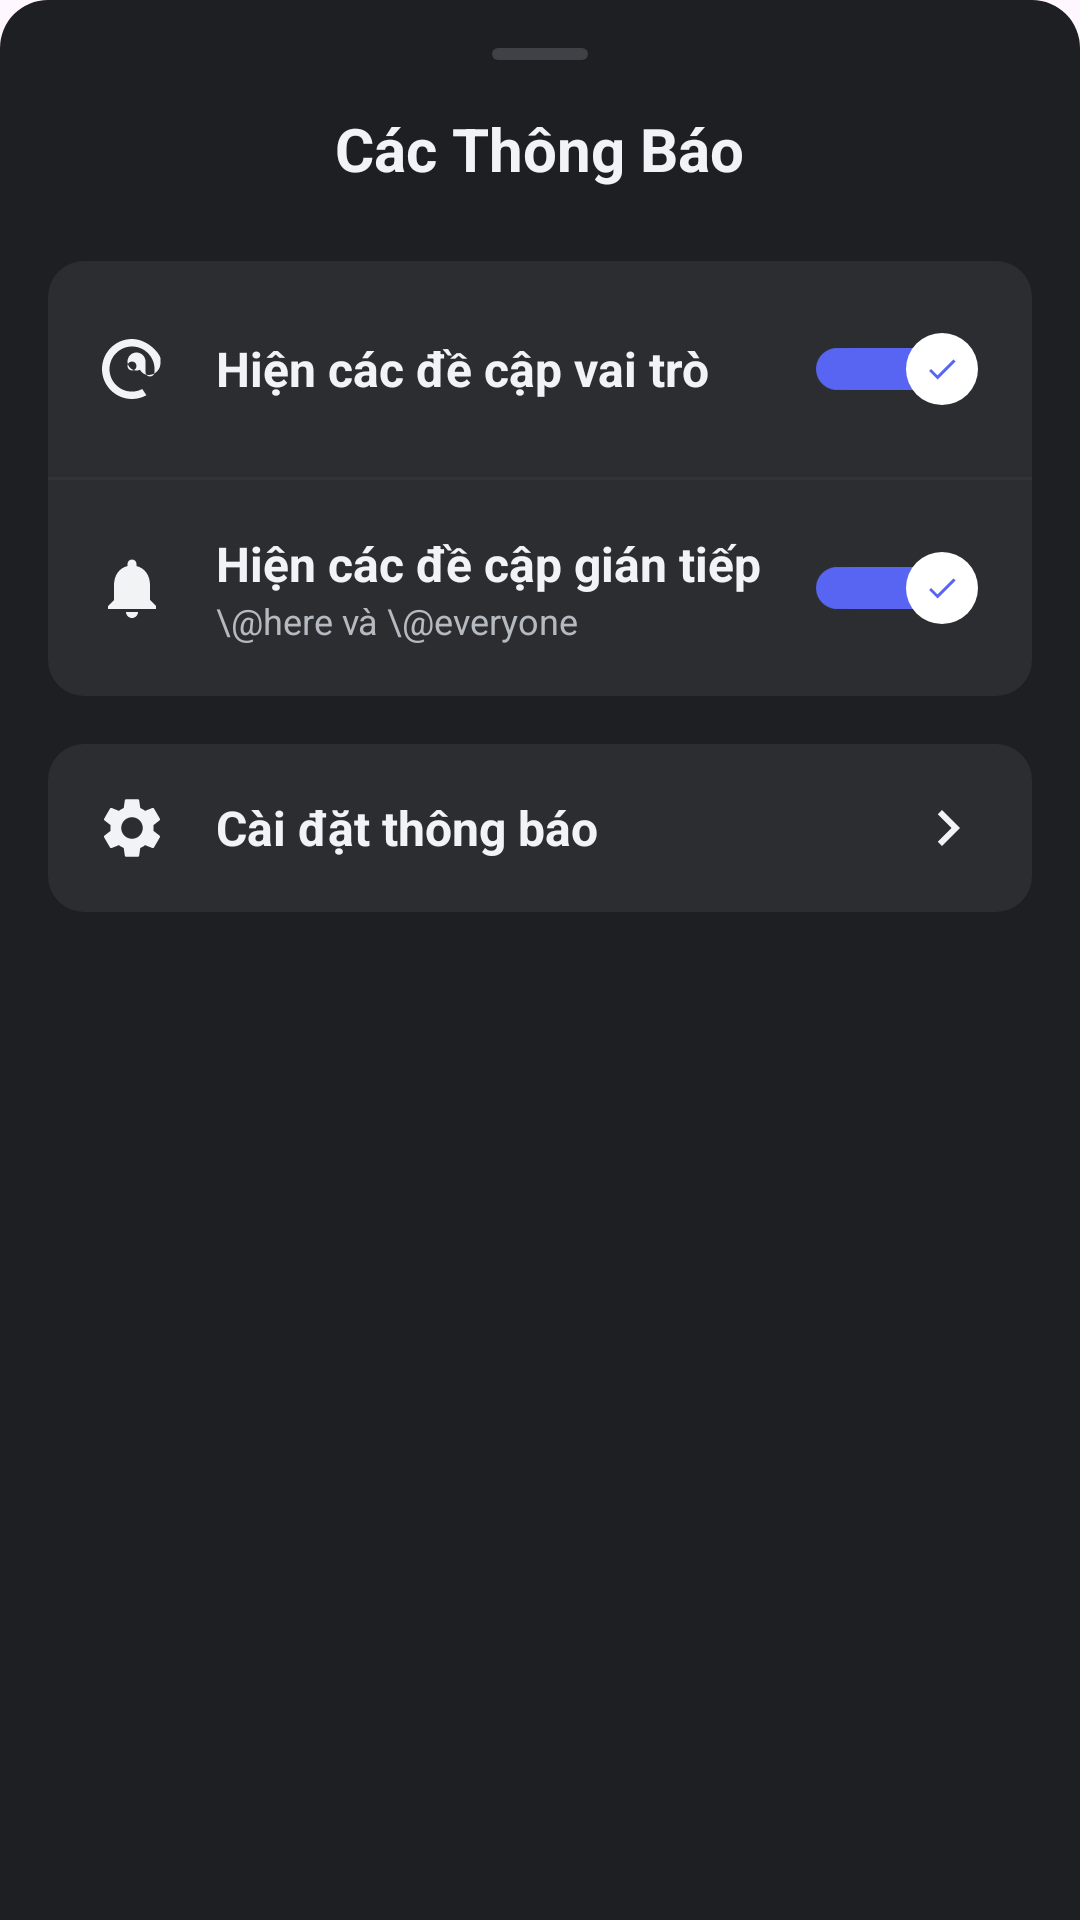

Named icons in this screenshot (1080 × 1920) and their centers, point (x, y):
chevron right: point (949, 828)
notifications: point (132, 588)
settings: point (132, 828)
